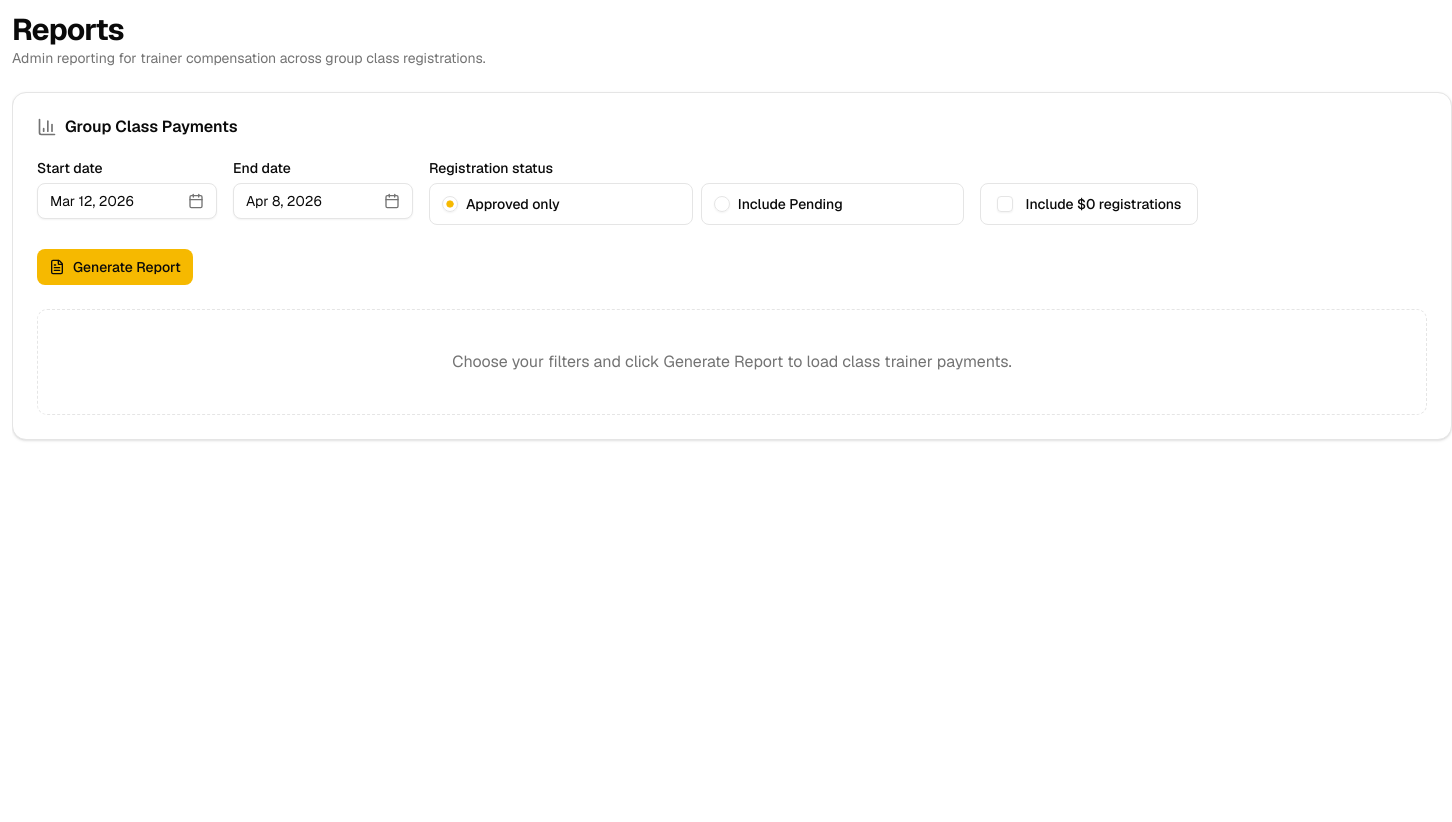
Scenario: ClassPaymentsPage › renders trainer sections, subtotals, and the grand total after generation
Click the button "Generate Report".
click(115, 267)  # box [37,249,193,285]
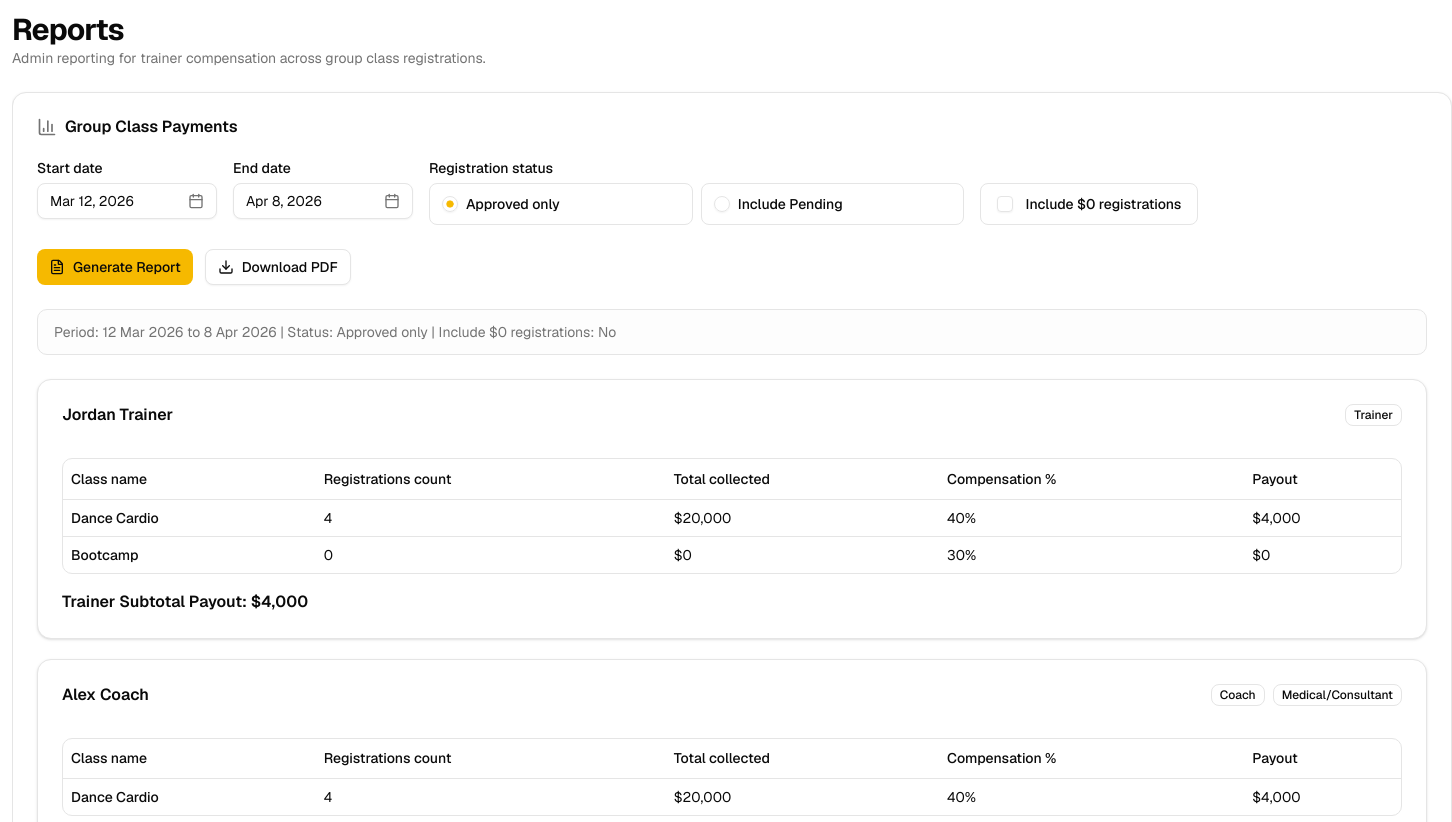
Result: the text "Download PDF" is shown at [205,249,351,285]
Result: the text "Jordan Trainer" is shown at [62,407,173,423]
Result: the text "Alex Coach" is shown at [62,686,149,702]
